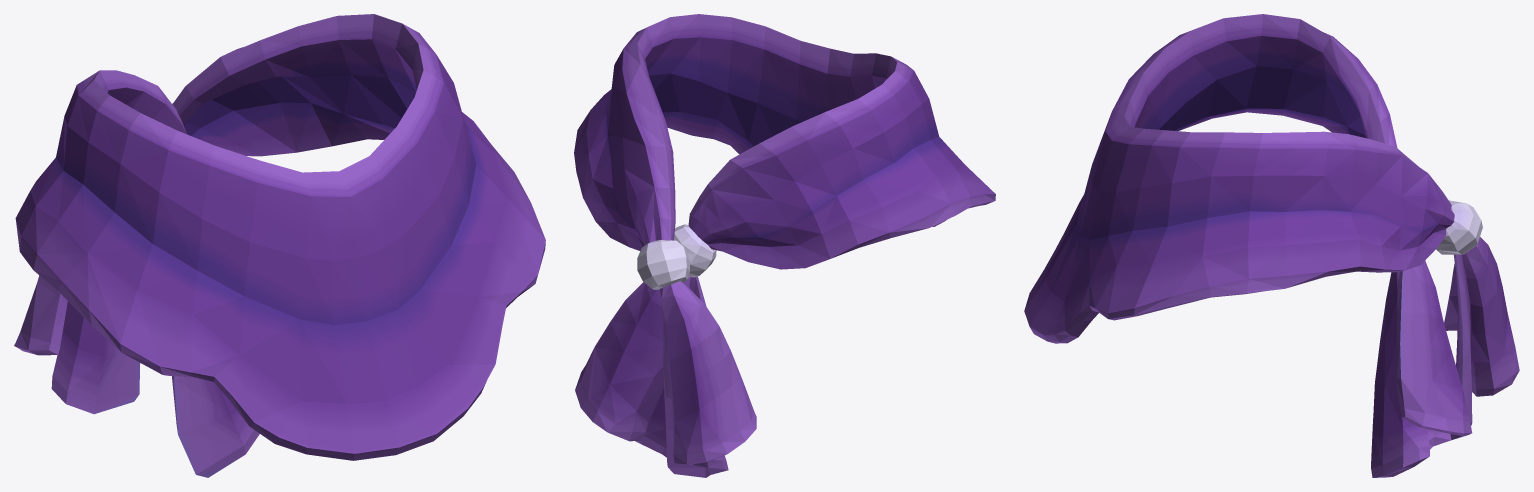
File: CharSkyKid_Wing_AP32Ribbon.glb
The picture shows the model from 3 angles, left to right: view 1: azimuth 30°, elevation 25°; view 2: azimuth 150°, elevation 25°; view 3: azimuth 270°, elevation 25°; orthographic projection. The views are drawn at different scales.
Parts seen in each view (by area): view 1: CharSkyKid_Wing_AP32Ribbon; view 2: CharSkyKid_Wing_AP32Ribbon; view 3: CharSkyKid_Wing_AP32Ribbon.
Boxes of the visible parts, x1=… form: CharSkyKid_Wing_AP32Ribbon: x1=14, y1=14, x2=545, y2=477; CharSkyKid_Wing_AP32Ribbon: x1=574, y1=14, x2=995, y2=477; CharSkyKid_Wing_AP32Ribbon: x1=1024, y1=14, x2=1519, y2=477.
Size of the model in its own units: 5 by 4.86 by 5.53.
Materials: 1 (1 with a texture image).
